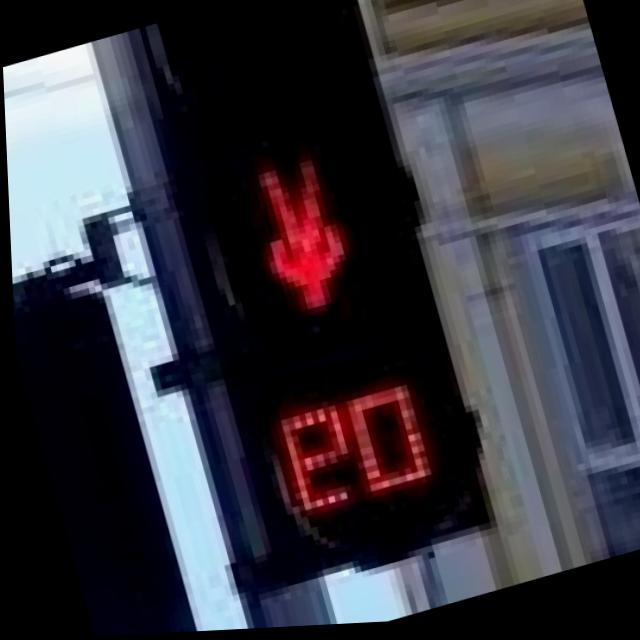red_light: (184, 135, 405, 371)
